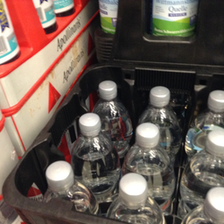water: (119, 120, 175, 206), (70, 114, 117, 201), (179, 131, 224, 212)
